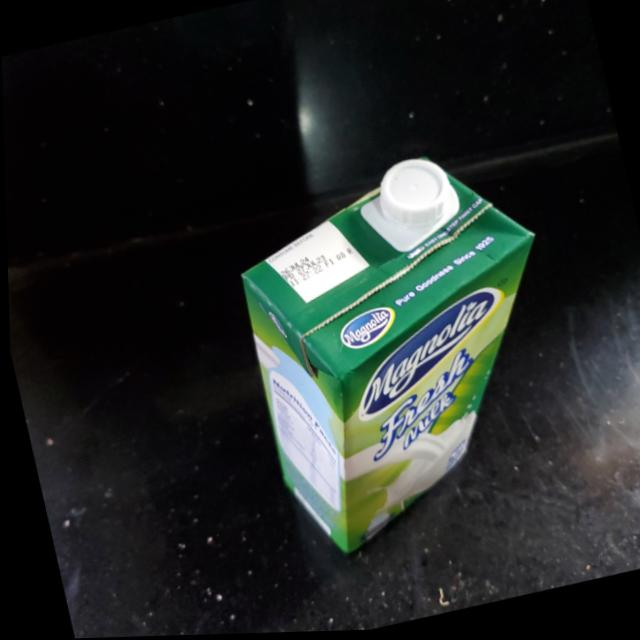milk: (220, 138, 596, 569)
